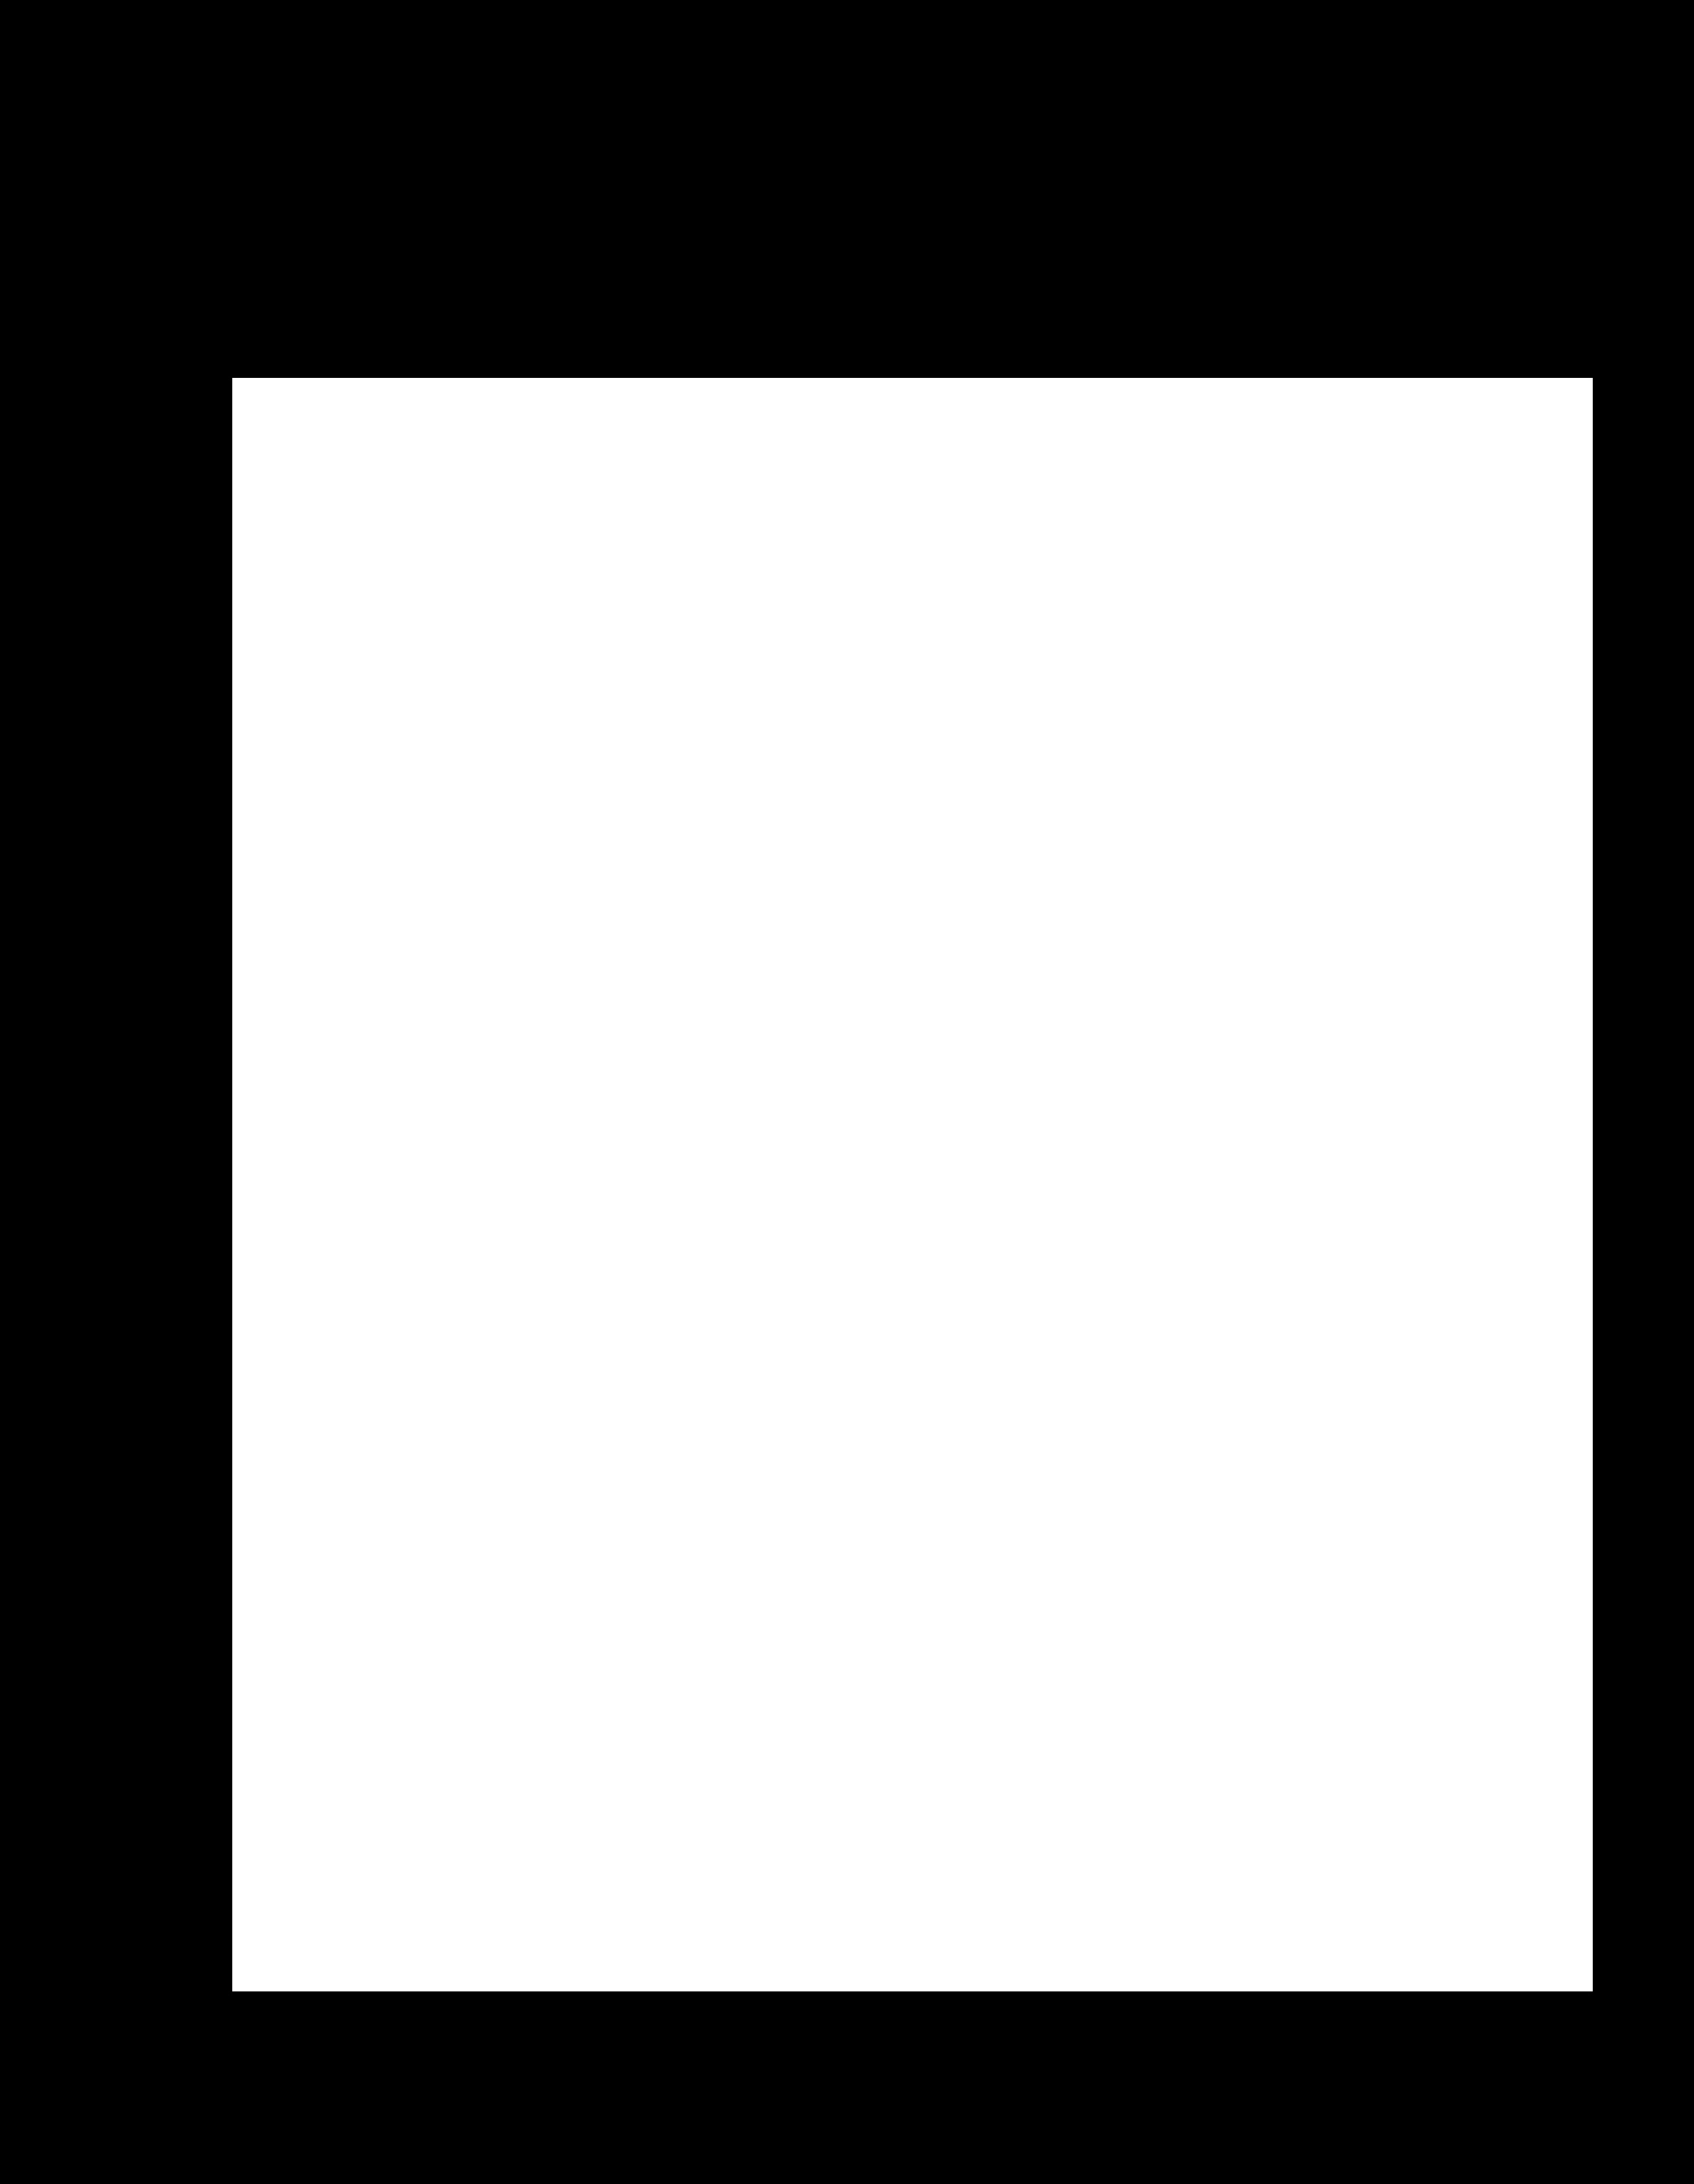table: (232, 378, 1591, 1991)
